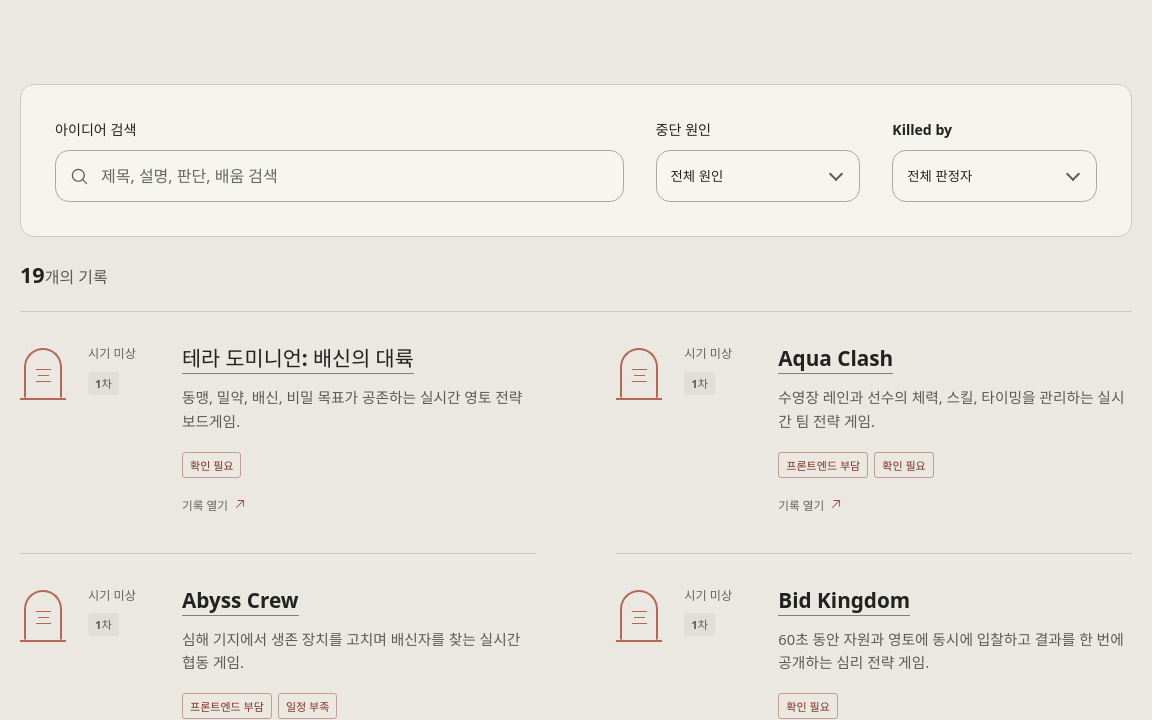
App › 카드에서 상세 기록을 열고 닫는다
(page scrolled)
Click the button named "Aqua Clash 기록 열기". click: (836, 360)
box: [778, 346, 893, 374]
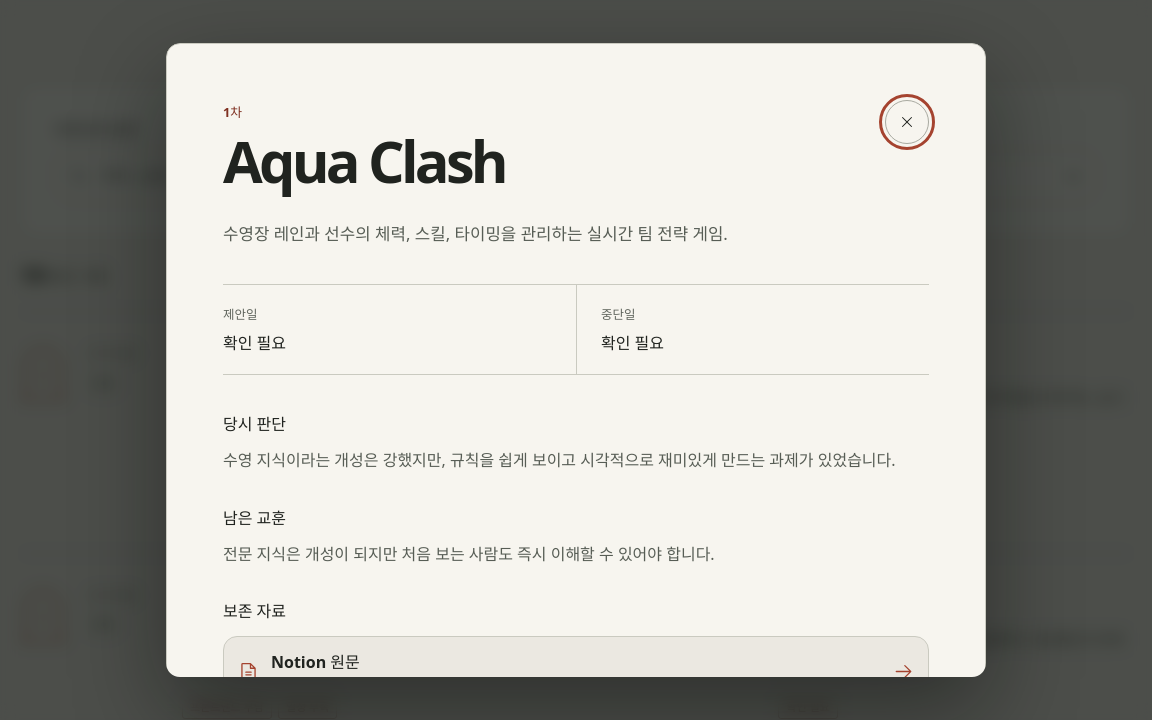
Result: the text "수영 지식이라는 개성은 강했지만, 규칙을 쉽게 보이고 시각적으로 재미있게 만드는 과제가 있었습니다." is shown at [223, 447, 929, 474]
Click the button named "상세 닫기". click: (907, 122)
box: [885, 100, 929, 144]
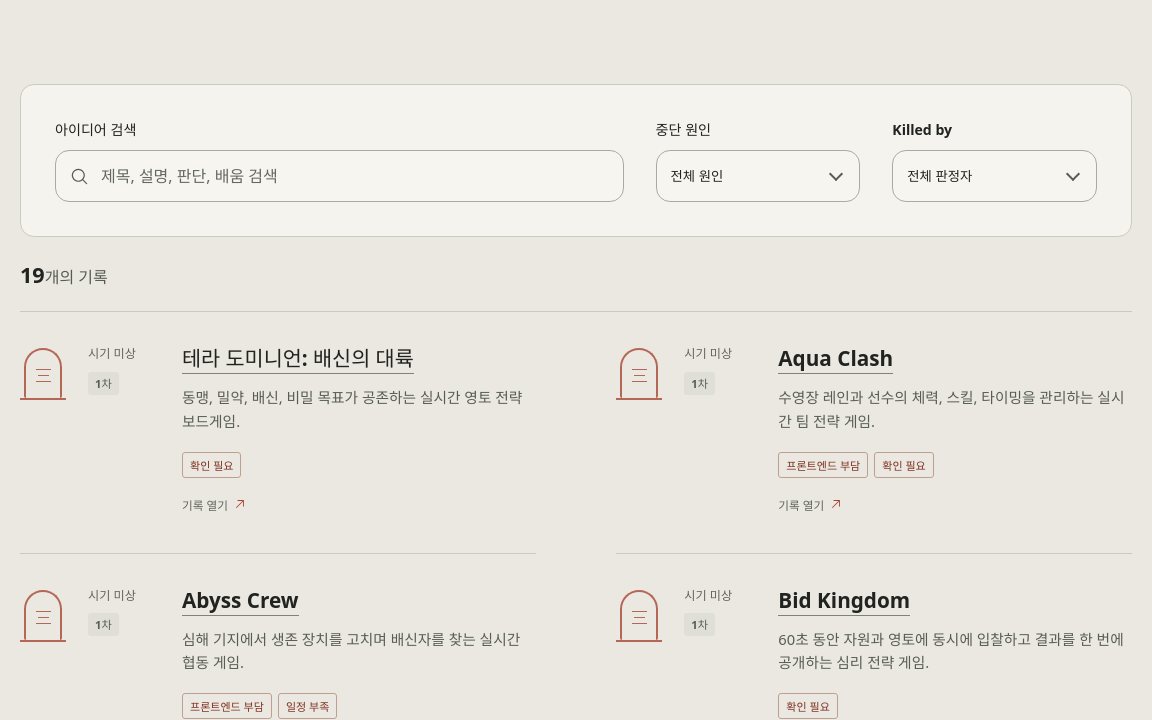
Result: the dialog is gone
